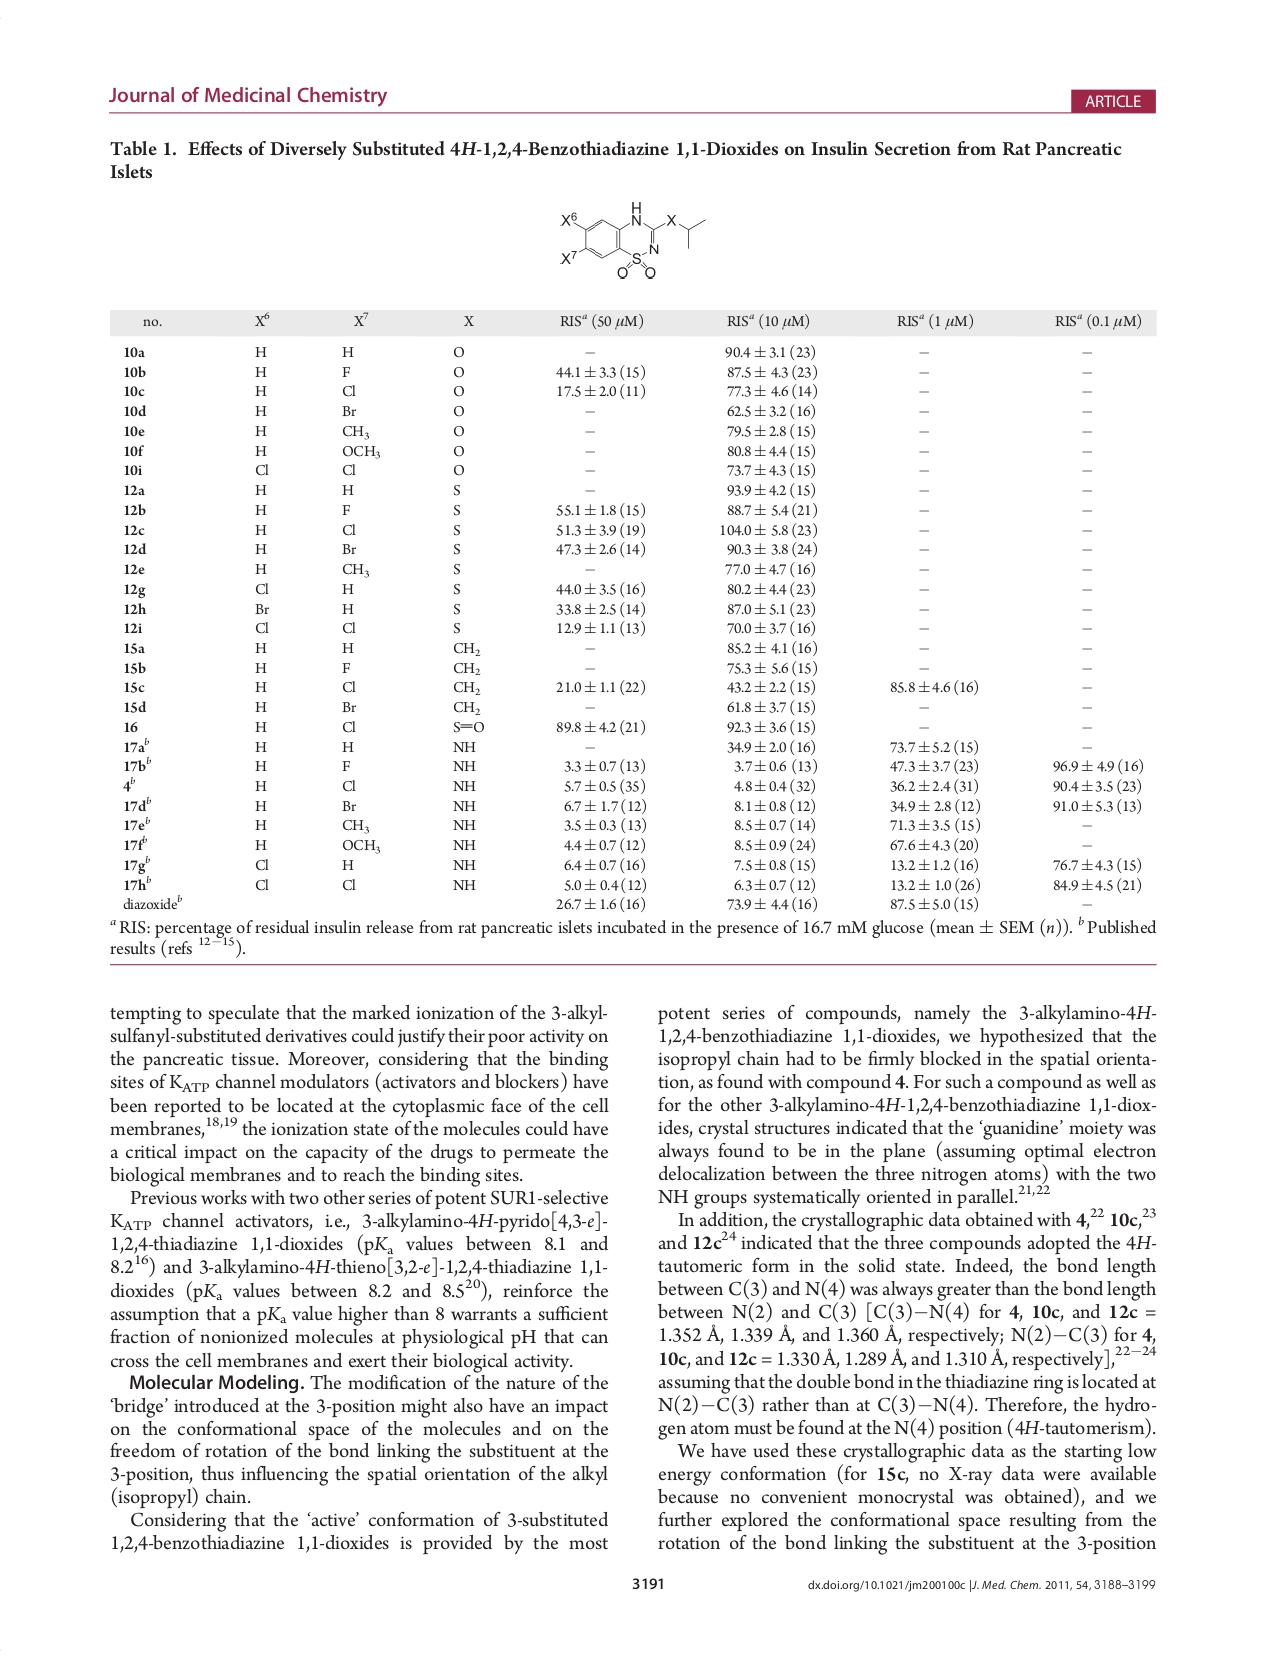exist_molecular: (555, 197, 707, 279)
